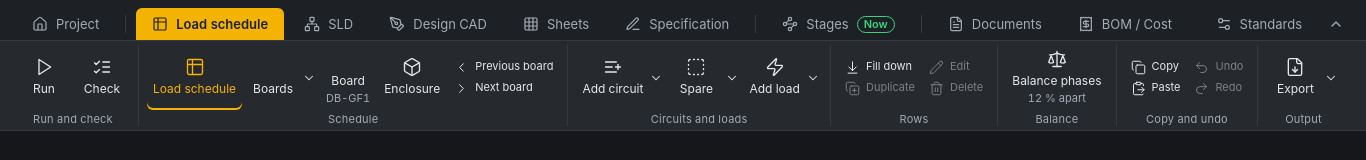
the Load schedule tab › steps to the board before and after, named in the tip, greyed at the ends and off a board's form
The image size is (1366, 160).
Later steps or results of the test are not shown.
Click the button "Previous board". click: [504, 67]
box: [448,57,559,77]
Click the button "Next board". click: [504, 88]
box: [448,78,559,98]
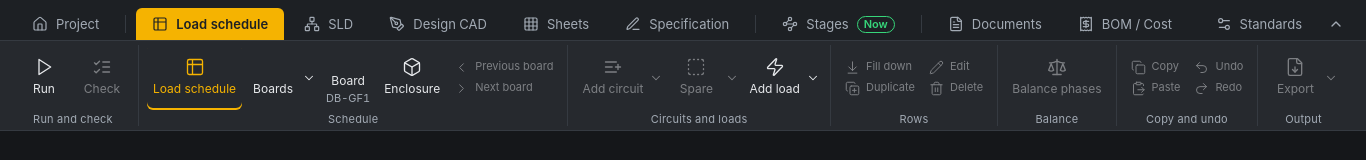
Expected: the button "Previous board" is disabled, [448,57,559,77]
Expected: the button "Next board" is disabled, [448,78,559,98]
